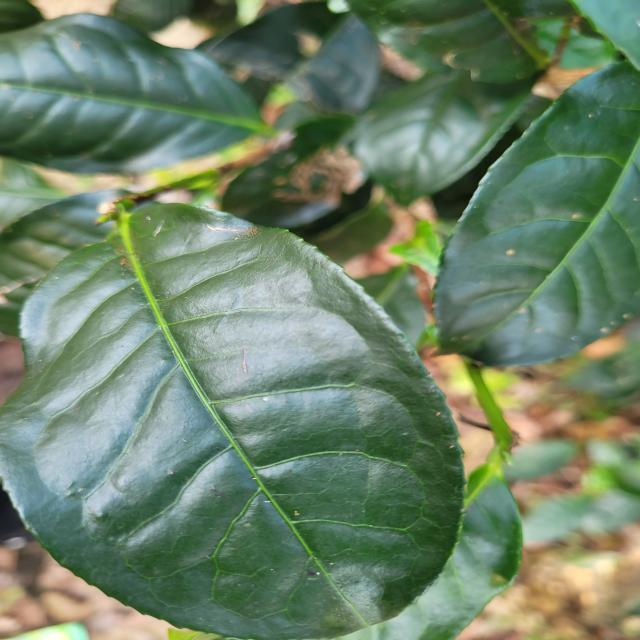Category D(7+ days, Not for Tea): (4, 183, 472, 640)
